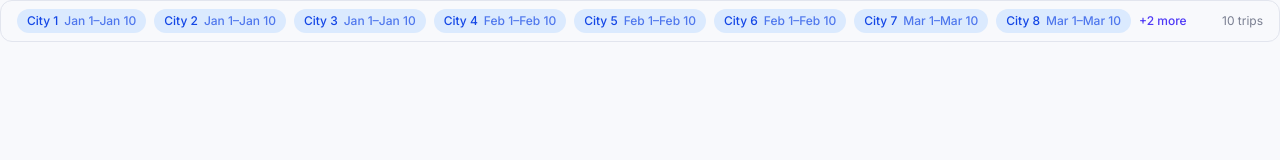
Test: TripSummaryBar › expands to show all trips when +N more is clicked
Check: the text "City 9" is not shown
Click the button "+2 more": (1163, 21) [1139,13,1187,29]
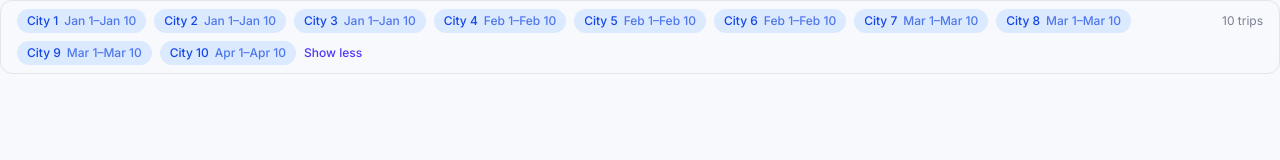
Check: the button "City 9 Mar 1–Mar 10" is shown, box [17,41,152,65]
Check: the button "City 10 Apr 1–Apr 10" is shown, box [160,41,296,65]
Check: the button "Show less" is shown, box [304,45,362,61]
